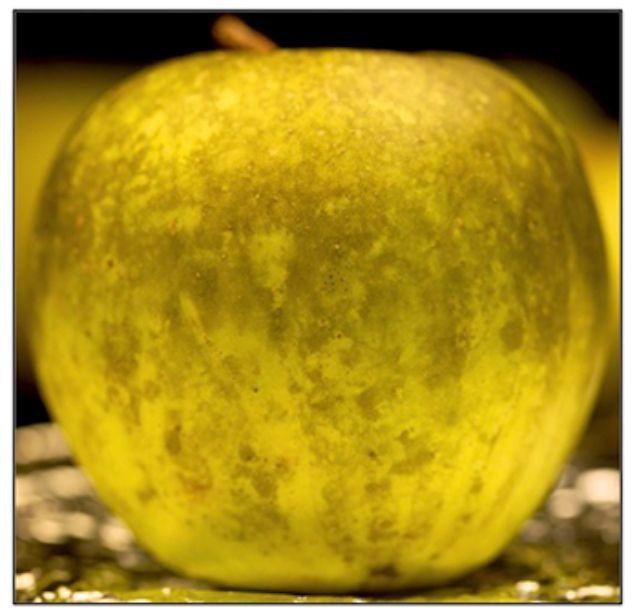BLOTCH: (43, 32, 598, 590)
